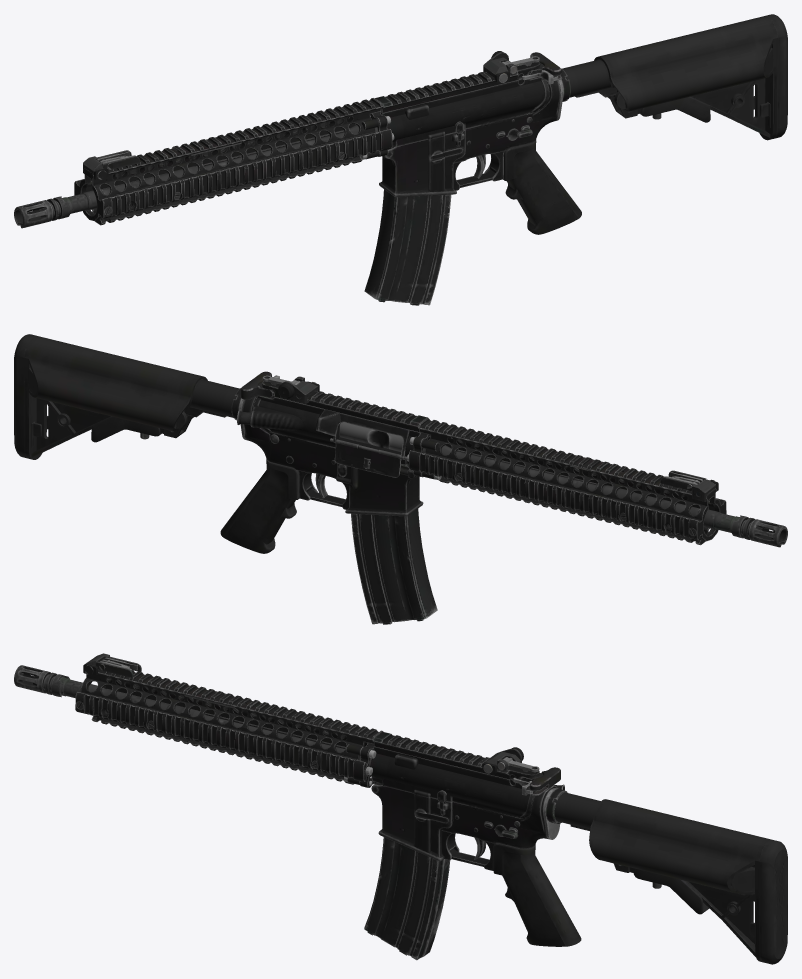
File: weapon_m4.glb
3 renders of one model, top to bottom at view 1: azimuth 30°, elevation 25°; view 2: azimuth 150°, elevation 25°; view 3: azimuth 330°, elevation 25°, orthographic.
Visible parts, largest first — view 1: rail_m4, stock_m4, main_frame_m4, magazine_m4, grip_m4, barrel_m4, reloader_m4; view 2: rail_m4, stock_m4, main_frame_m4, magazine_m4, grip_m4, barrel_m4, reloader_m4; view 3: stock_m4, rail_m4, main_frame_m4, magazine_m4, grip_m4, barrel_m4, reloader_m4.
Part boxes in pixels (x1,y1,x2,y2): rail_m4: (74,98,394,225); stock_m4: (562,14,787,140); main_frame_m4: (372,51,570,197); magazine_m4: (364,189,451,305); grip_m4: (503,140,581,234); barrel_m4: (14,132,344,228); reloader_m4: (522,52,561,84); rail_m4: (407,418,726,545); stock_m4: (14,334,239,459); main_frame_m4: (231,375,430,516); magazine_m4: (351,508,437,624); grip_m4: (220,459,299,553); barrel_m4: (456,451,787,547); reloader_m4: (241,371,279,399); stock_m4: (554,792,787,964); rail_m4: (75,653,383,787); main_frame_m4: (369,731,567,870); magazine_m4: (364,837,450,960); grip_m4: (493,843,581,946); barrel_m4: (14,665,344,752); reloader_m4: (513,767,560,795).
Size of the model in its own units: 99.09 by 27.65 by 8.33.
Materials: 5 (5 with a texture image).
